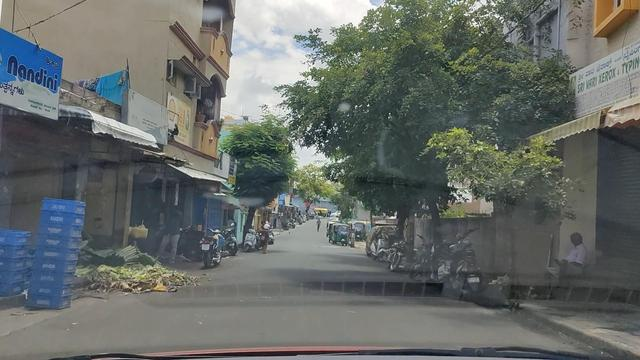LMV: (198, 225, 221, 265), (325, 223, 350, 246)
